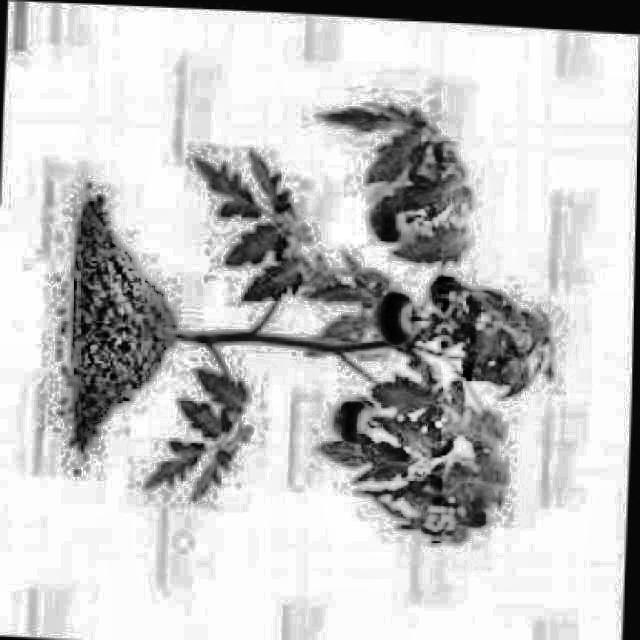plants: (132, 81, 574, 548)
